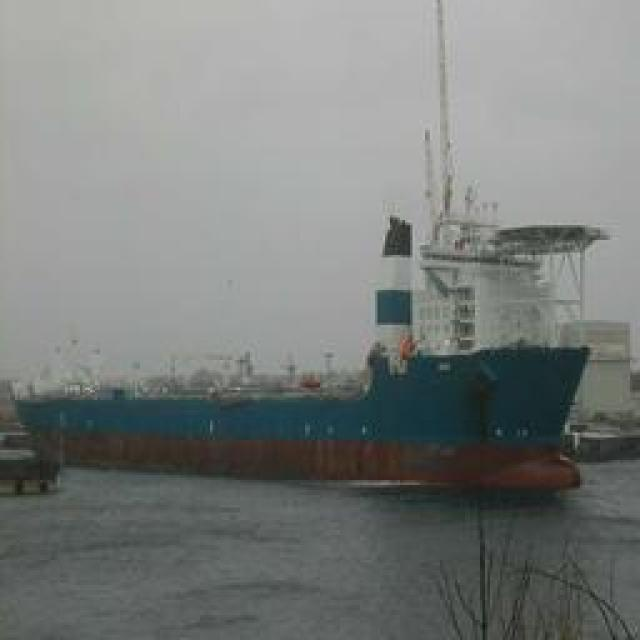CIV_Ship: (15, 370, 583, 485)
